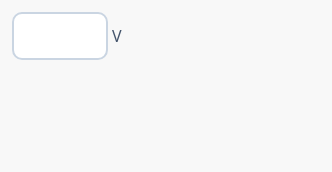
ChampNombre (pavé numérique) › convertit la virgule décimale et garde un texte invalide sans changer la valeur
Type "57,7" into the field named "Amplitude".
click(60, 36); type("57,7")  # box [12,12,108,60]
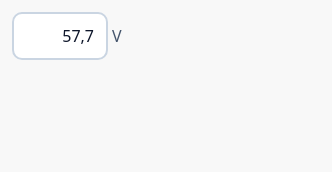
Replace the text in the field named "Amplitude" with "57,7x" at (60, 36), box [12,12,108,60]
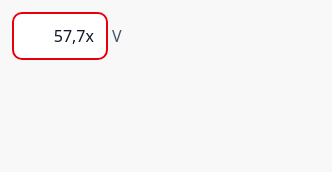
expect the field named "Amplitude" is marked as invalid: met, box [12,12,108,60]
